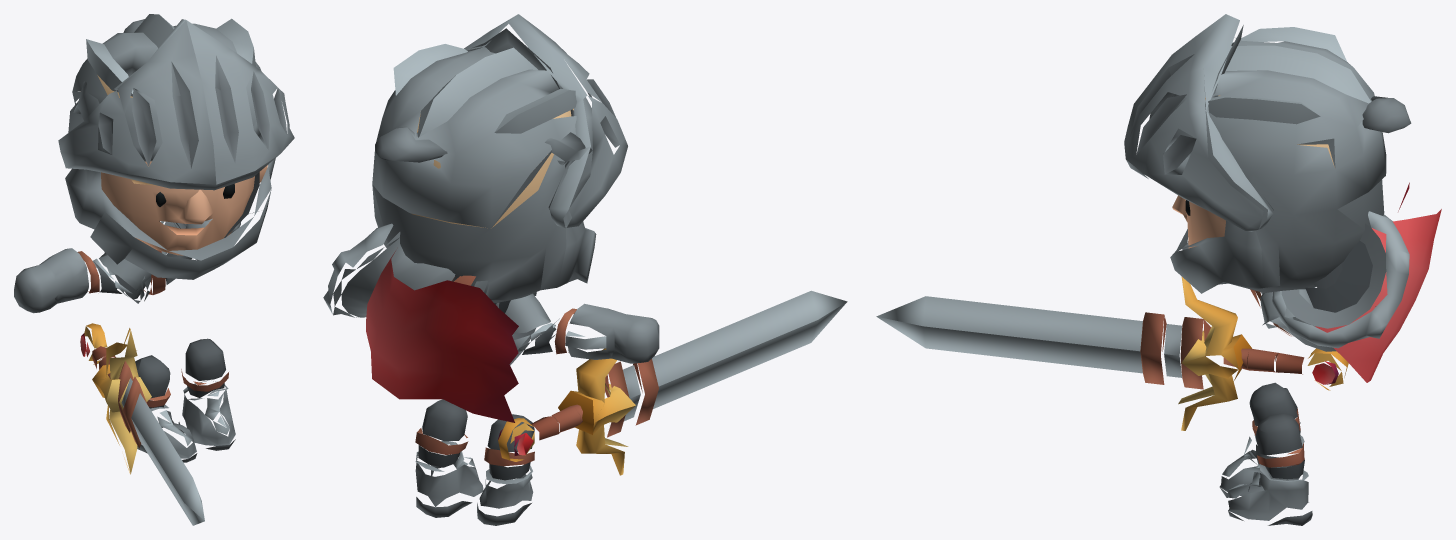
The model's file is boss.glb.
3 views of the same model, side by side, from view 1: azimuth 30°, elevation 25°; view 2: azimuth 150°, elevation 25°; view 3: azimuth 270°, elevation 25° (orthographic). The views are drawn at different scales.
Visible parts, largest first — view 1: boss; view 2: boss; view 3: boss.
Boxes of the visible parts, <box> form: boss: <box>14,14,294,525</box>; boss: <box>323,14,847,525</box>; boss: <box>876,14,1441,525</box>.
Bounding box in the file's own units: 1.22 × 2.03 × 2.16.
1 material, 1 textured.
